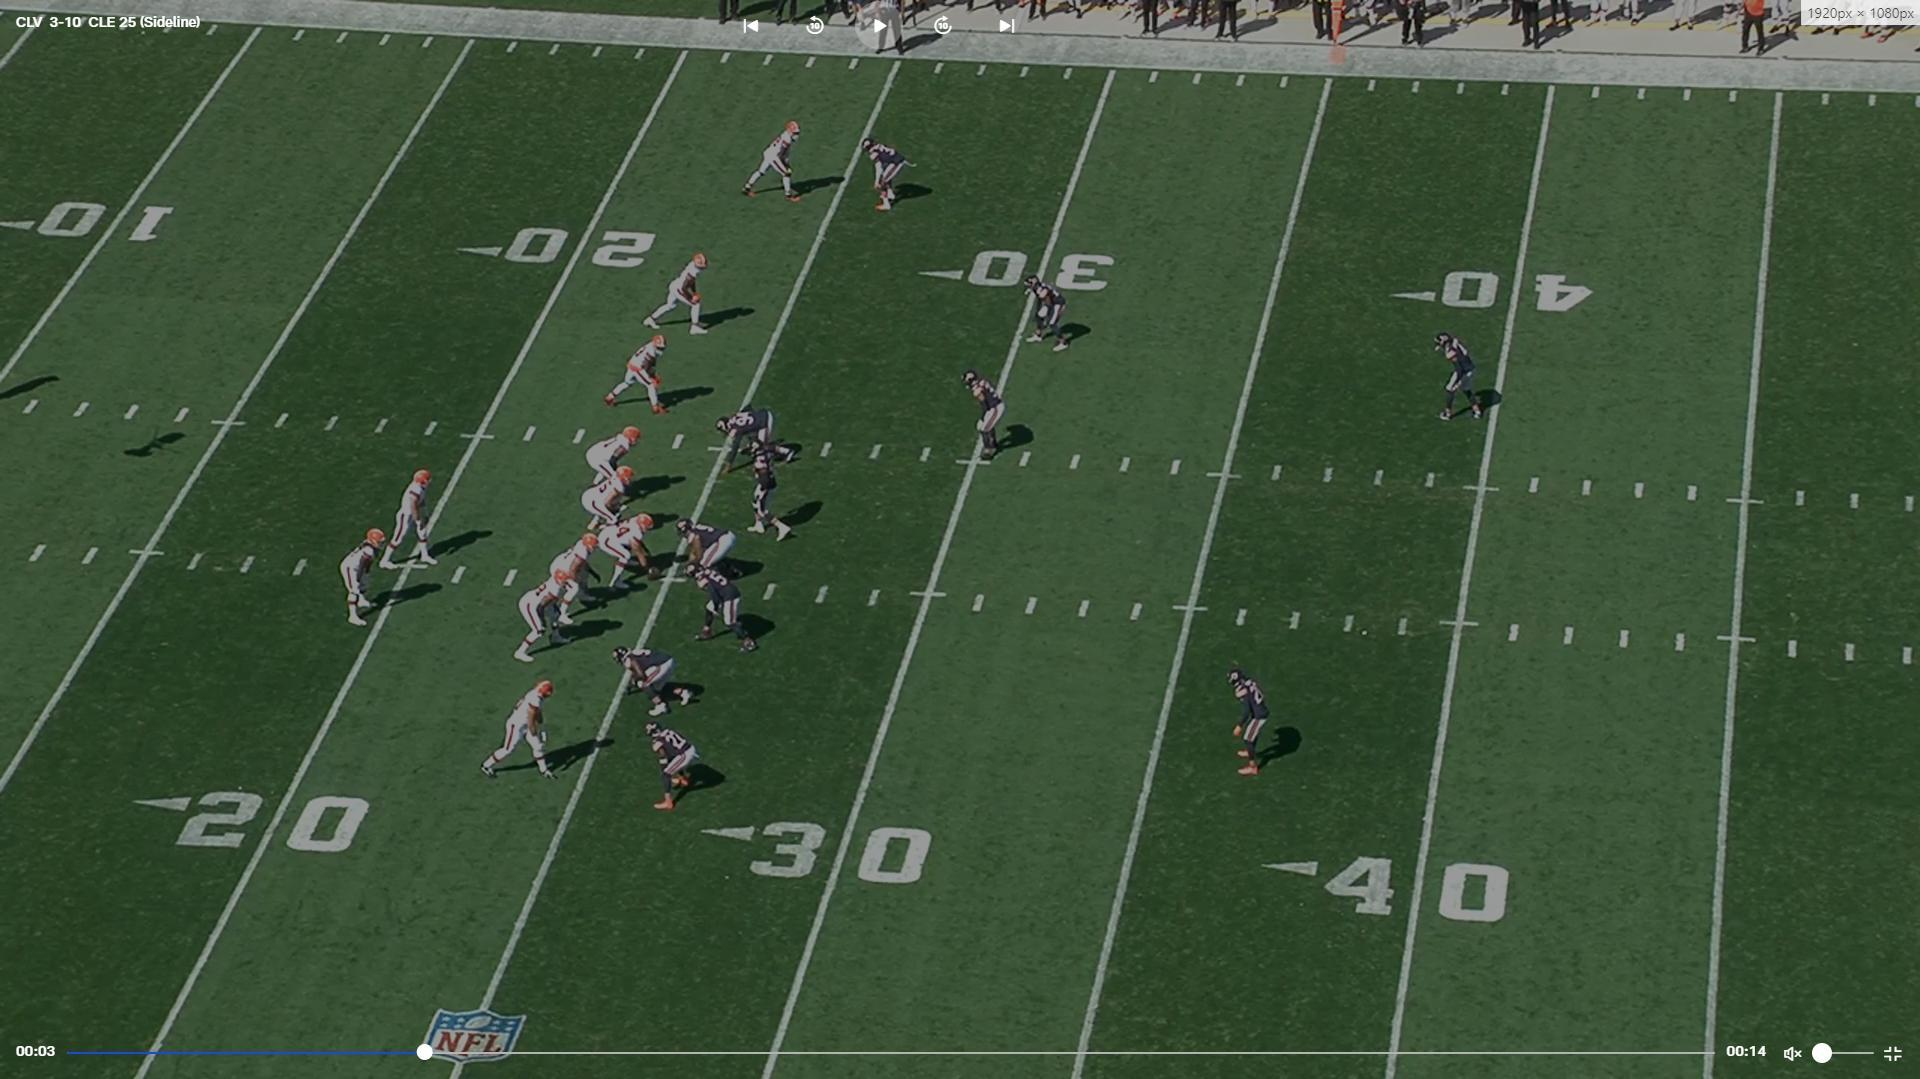player: (481, 675, 561, 782), (1222, 660, 1280, 785), (612, 644, 701, 721), (641, 249, 716, 340), (693, 556, 763, 653), (601, 329, 673, 418), (641, 720, 708, 815), (738, 118, 809, 207), (1434, 327, 1497, 425), (742, 432, 795, 542), (515, 572, 577, 664), (389, 467, 441, 573), (959, 364, 1013, 464), (337, 525, 387, 633), (713, 404, 797, 465), (553, 535, 610, 624), (598, 511, 662, 588), (674, 515, 746, 583), (856, 135, 907, 217), (1025, 267, 1073, 354), (577, 466, 634, 530), (588, 426, 643, 483)
